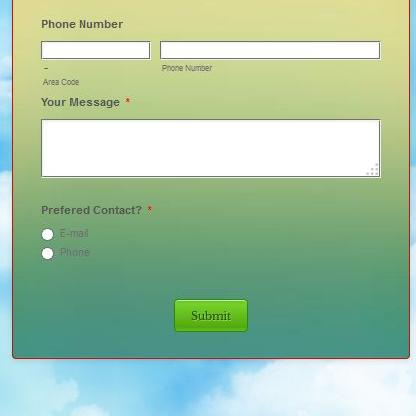button: (174, 299, 248, 333)
field: (40, 119, 382, 179), (158, 39, 382, 61), (40, 40, 151, 59)
field_with_label: (39, 97, 383, 183), (154, 37, 385, 71)
radio: (40, 245, 55, 261), (42, 226, 55, 242)
radio_with_label: (37, 245, 90, 264), (39, 224, 87, 244)
